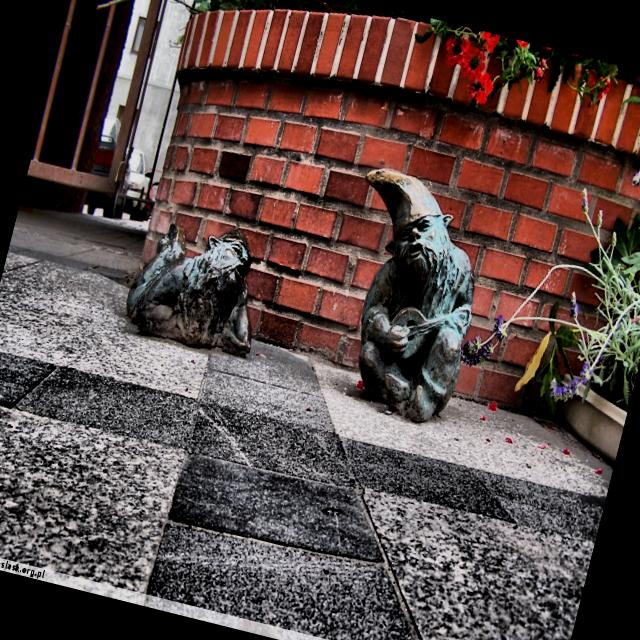Grajek_i_Meloman: (356, 169, 473, 424), (125, 225, 250, 358)
